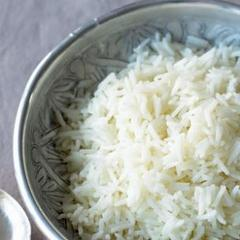plain rice: (75, 56, 240, 236)
